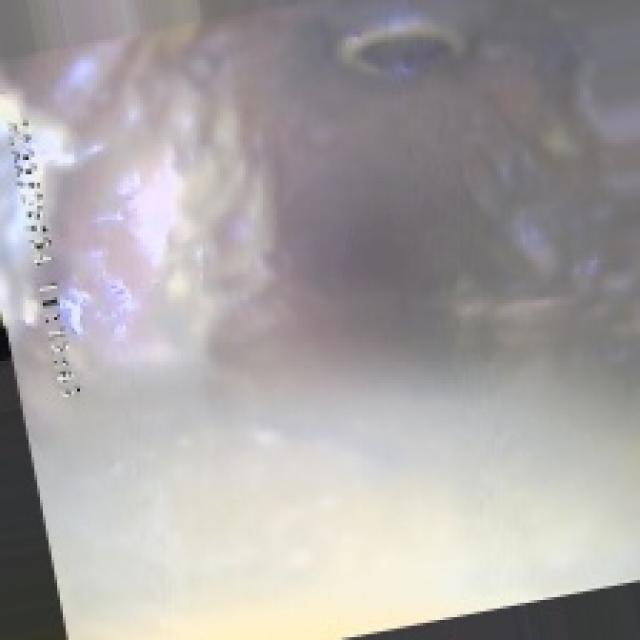encrustation: (326, 6, 463, 77)
